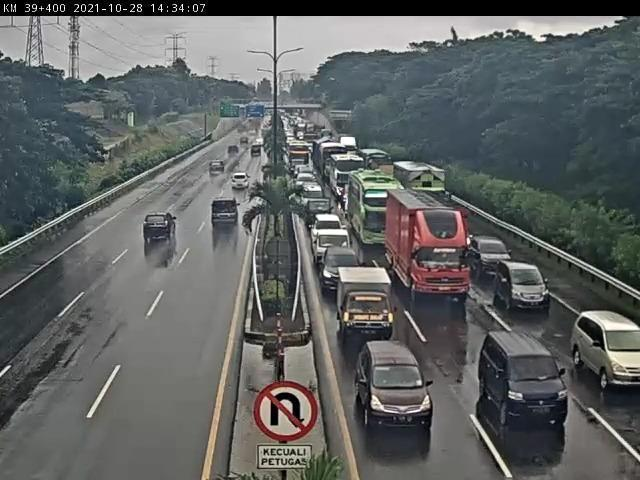bus: (349, 172, 402, 248), (323, 152, 363, 194), (287, 140, 309, 170)
car: (482, 330, 568, 424), (356, 342, 439, 429), (564, 310, 640, 383), (336, 265, 396, 337), (495, 262, 551, 312), (321, 249, 362, 291), (314, 229, 353, 270), (467, 236, 509, 271), (142, 212, 181, 243), (299, 195, 331, 225), (212, 198, 243, 225), (308, 214, 347, 233), (450, 226, 473, 257), (228, 171, 254, 192), (297, 179, 321, 200), (205, 162, 227, 182), (295, 168, 313, 183), (228, 144, 243, 158)
truck: (390, 187, 469, 297), (393, 160, 457, 214), (319, 143, 348, 179), (363, 149, 392, 170)
